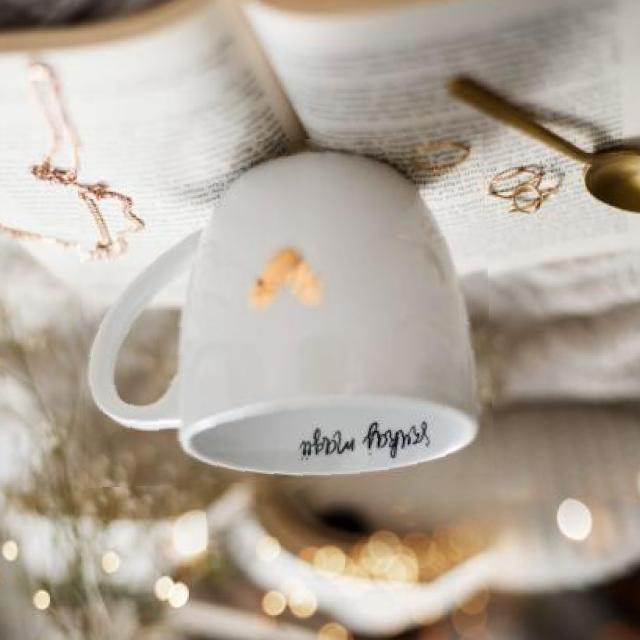cup: (76, 134, 494, 488)
